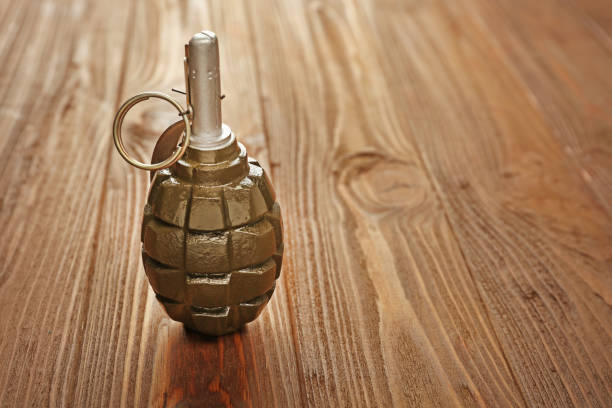e1: (112, 31, 285, 336)
